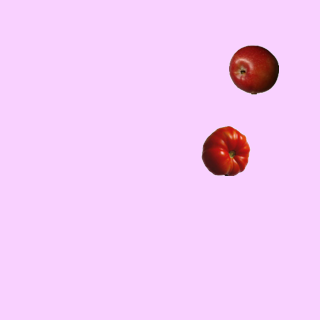Apple Braeburn: (228, 44, 278, 94)
Tomato 3: (200, 125, 250, 175)
